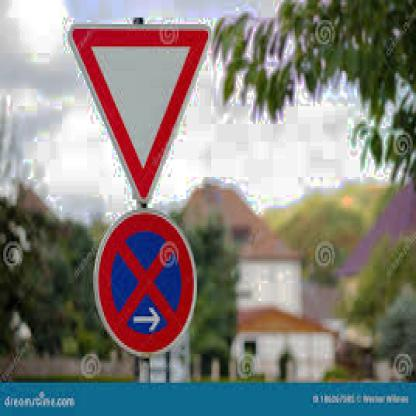No stopping: (95, 207, 199, 360)
